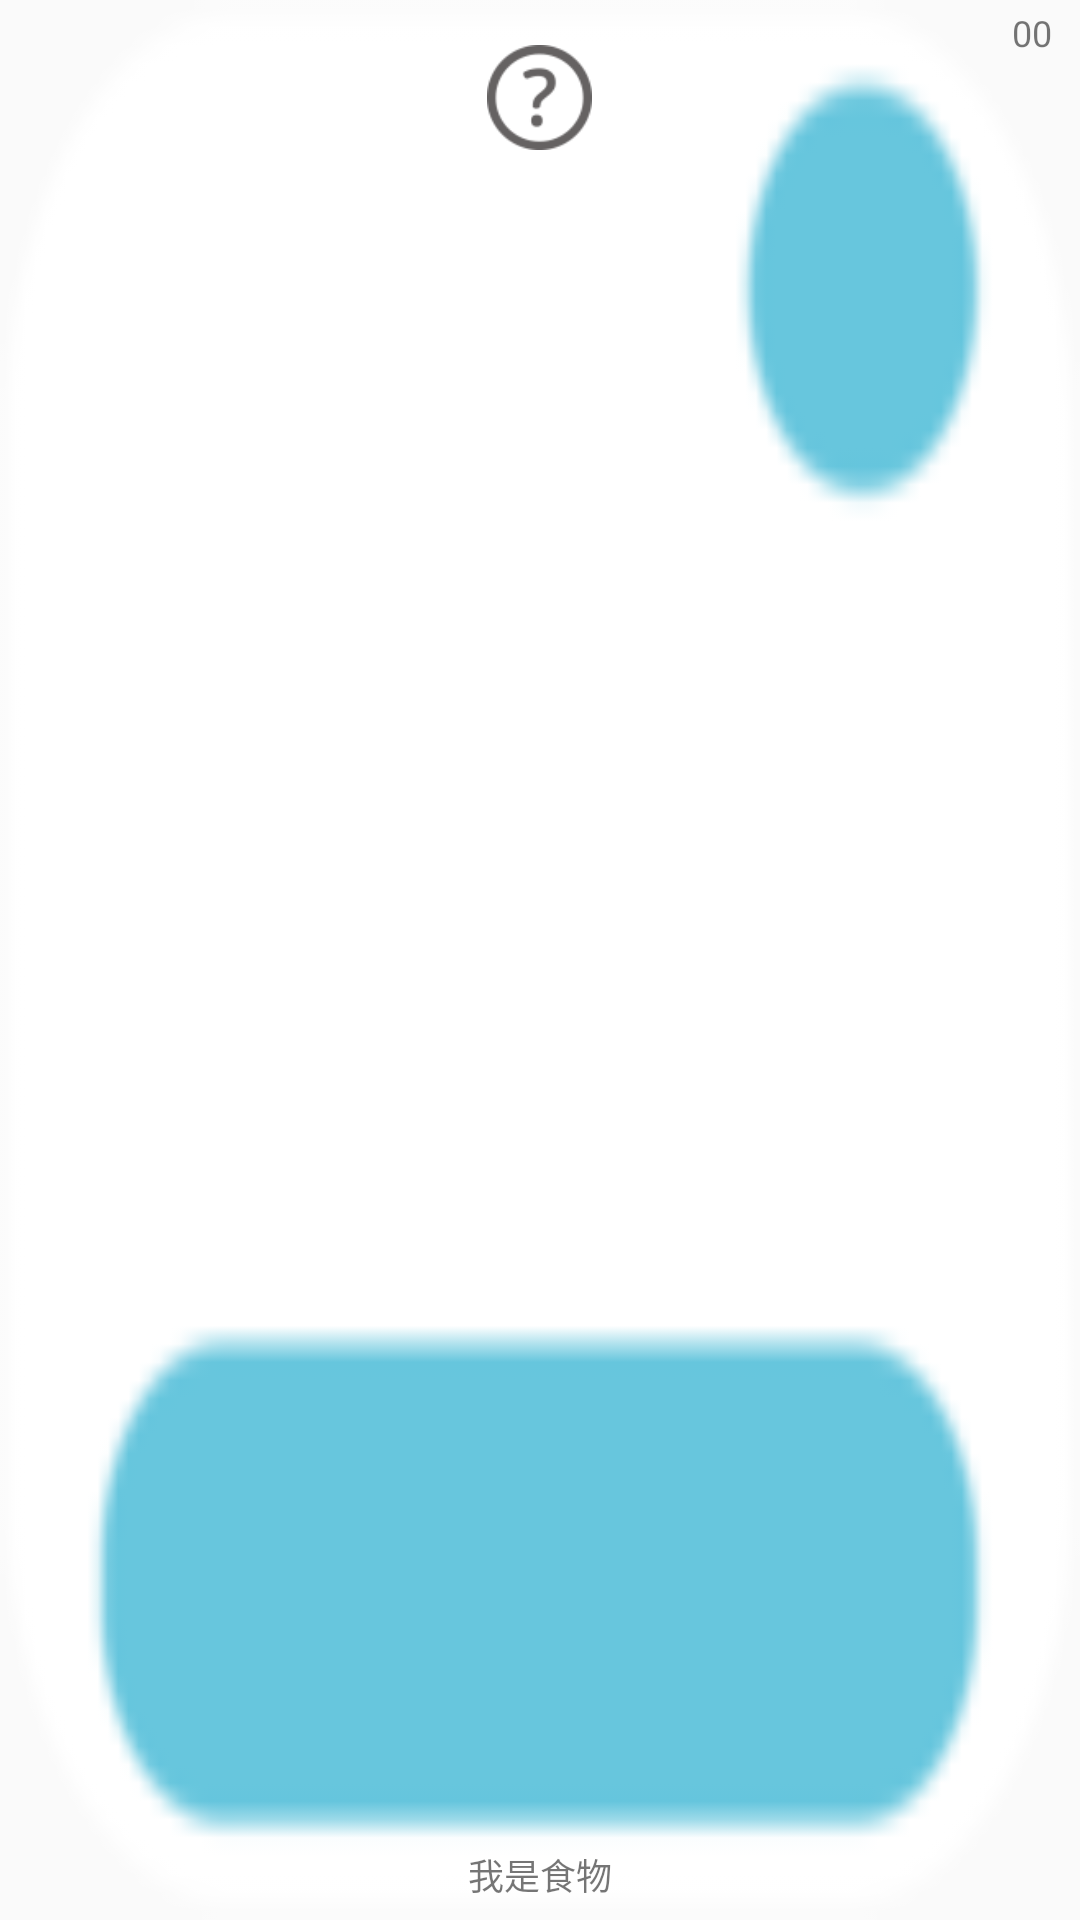

Icons on this 1080px x 1920px Android screen, each with its box as (x1, y1, x2, y2):
specie unknown: (487, 45, 592, 150)
